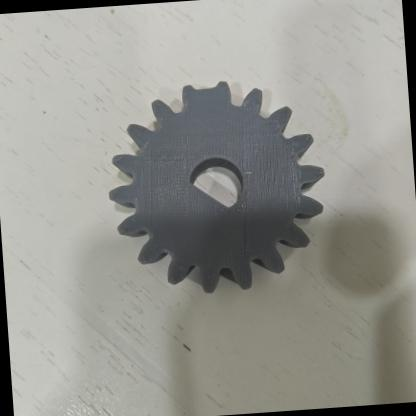defect: (176, 166, 239, 224), (170, 79, 235, 110)
gear: (102, 75, 332, 300)
